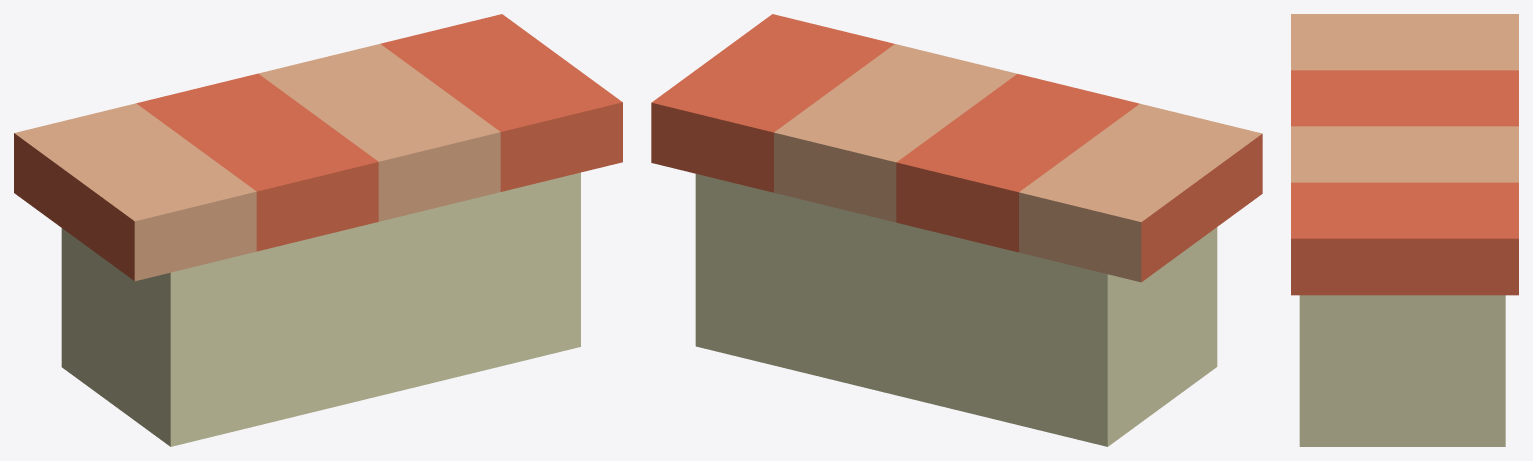
Rendered from Sashimi.glb.
3 renders of one model, left to right at view 1: azimuth 30°, elevation 25°; view 2: azimuth 150°, elevation 25°; view 3: azimuth 270°, elevation 25°, orthographic. The views are drawn at different scales.
Visible parts, largest first — view 1: Sashimi; view 2: Sashimi; view 3: Sashimi.
Boxes of the visible parts, x1,y1,x2,y2 form: Sashimi: [14, 14, 622, 446]; Sashimi: [651, 14, 1262, 446]; Sashimi: [1291, 14, 1518, 446].
Size of the model in its own units: 4.53 by 2.12 by 1.94.
